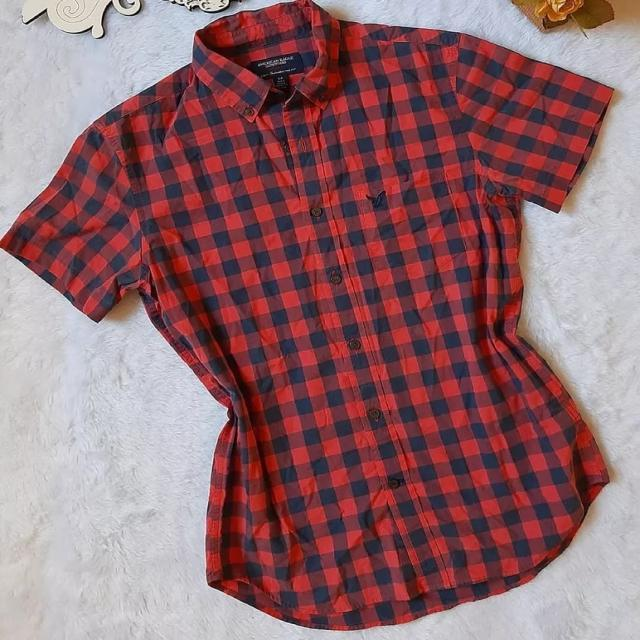short sleeve shirt: (1, 0, 617, 632)
